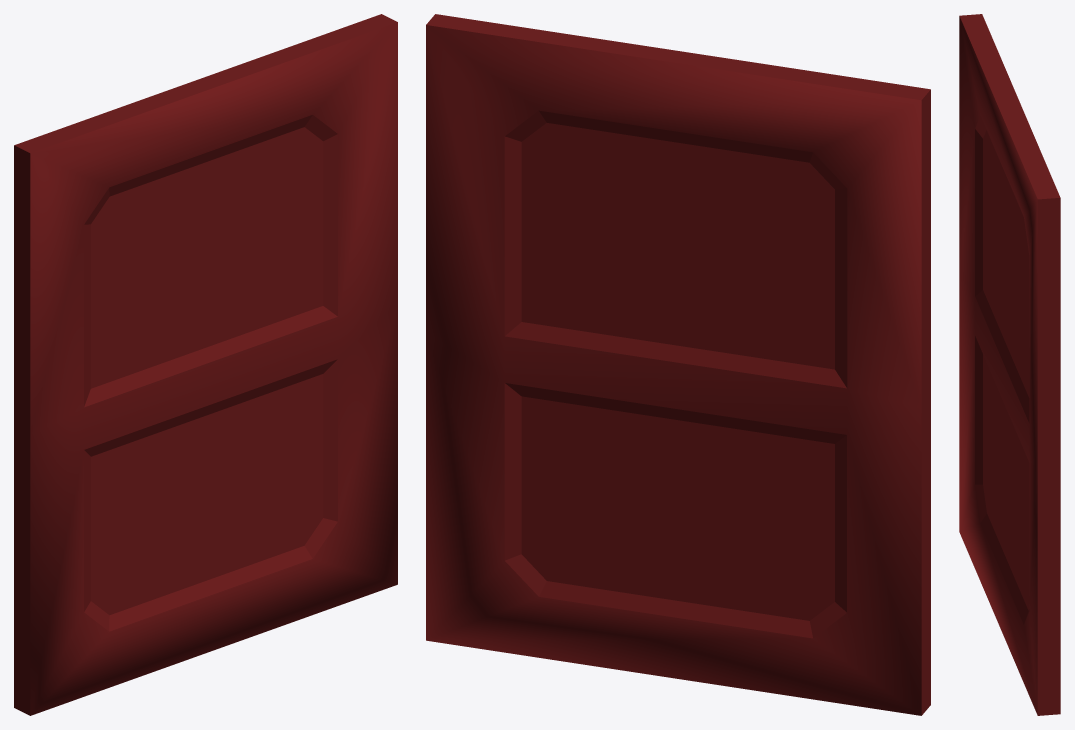
The model's file is Tuer.fbx.
3 renders of one model, left to right at view 1: azimuth 30°, elevation 25°; view 2: azimuth 150°, elevation 25°; view 3: azimuth 270°, elevation 25°, orthographic. The views are drawn at different scales.
Parts seen in each view (by area): view 1: DoorMetal; view 2: DoorMetal; view 3: DoorMetal.
Part boxes in pixels (x1,y1,x2,y2): DoorMetal: (14,14,397,715); DoorMetal: (426,14,930,715); DoorMetal: (959,14,1060,715).
Bounding box in the file's own units: 170 × 220 × 39.08.
